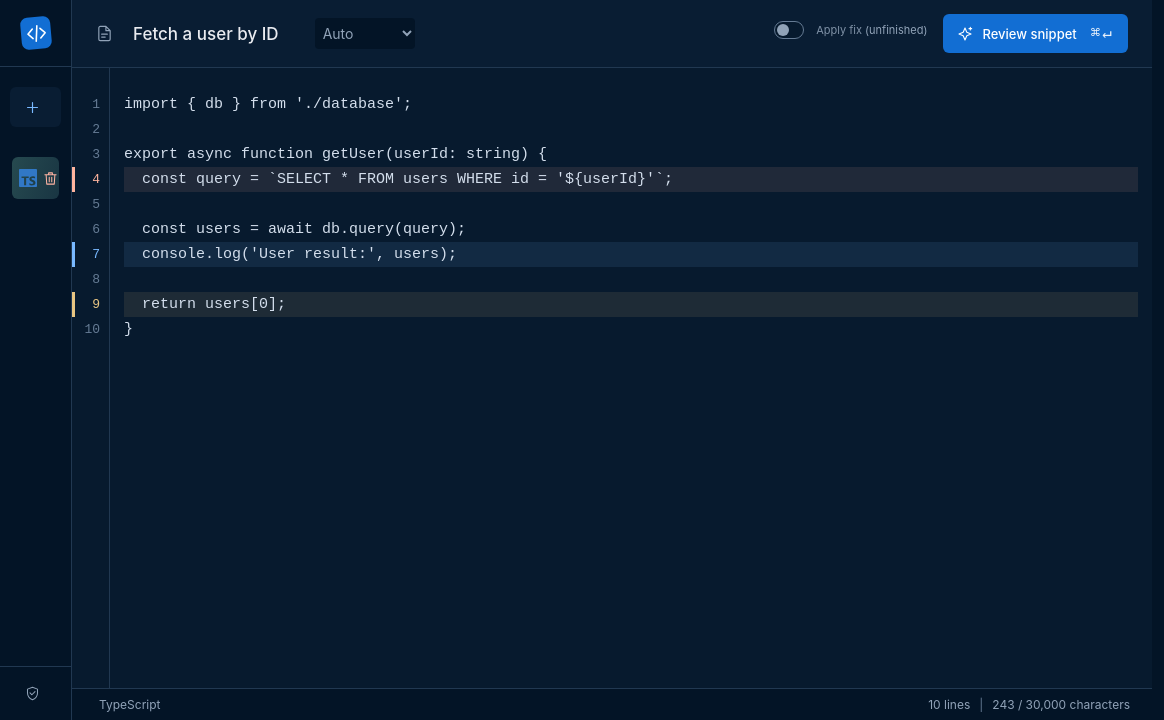
Test: snippet editor workspace › starts collapsed on small screens and closes after selection or Escape
Expected: the button named "Fetch a user by ID" is shown, left=12, top=157, right=59, bottom=199
Click the button named "Expand sidebar" at x=36, y=33, box left=20, top=17, right=52, bottom=49
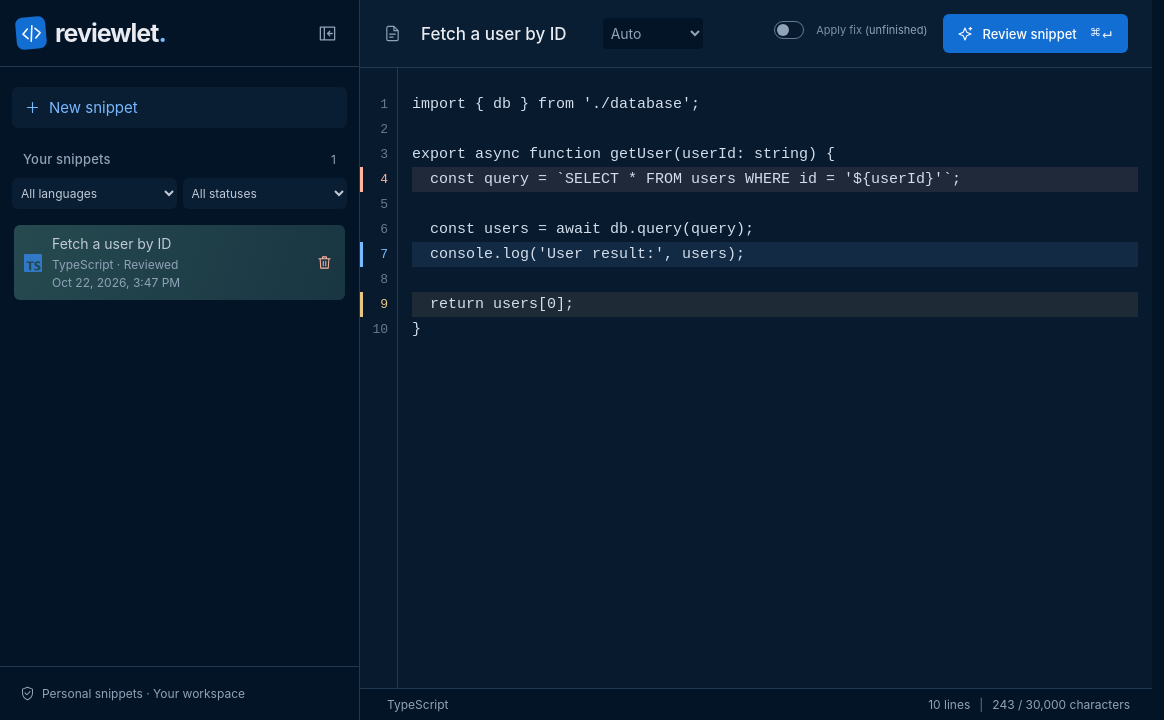
Click the button "Fetch a user by ID" at x=180, y=262, box left=14, top=225, right=345, bottom=300
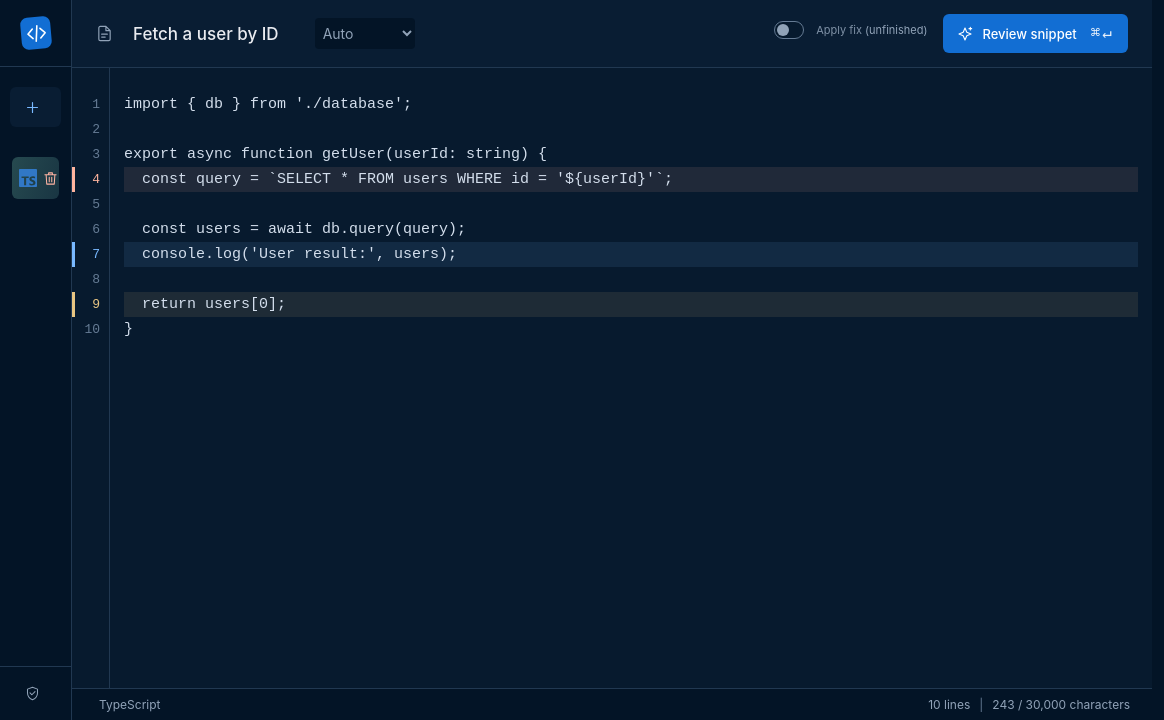
Expected: the button named "Expand sidebar" is shown
Click the button named "Expand sidebar" at x=36, y=33, box left=20, top=17, right=52, bottom=49
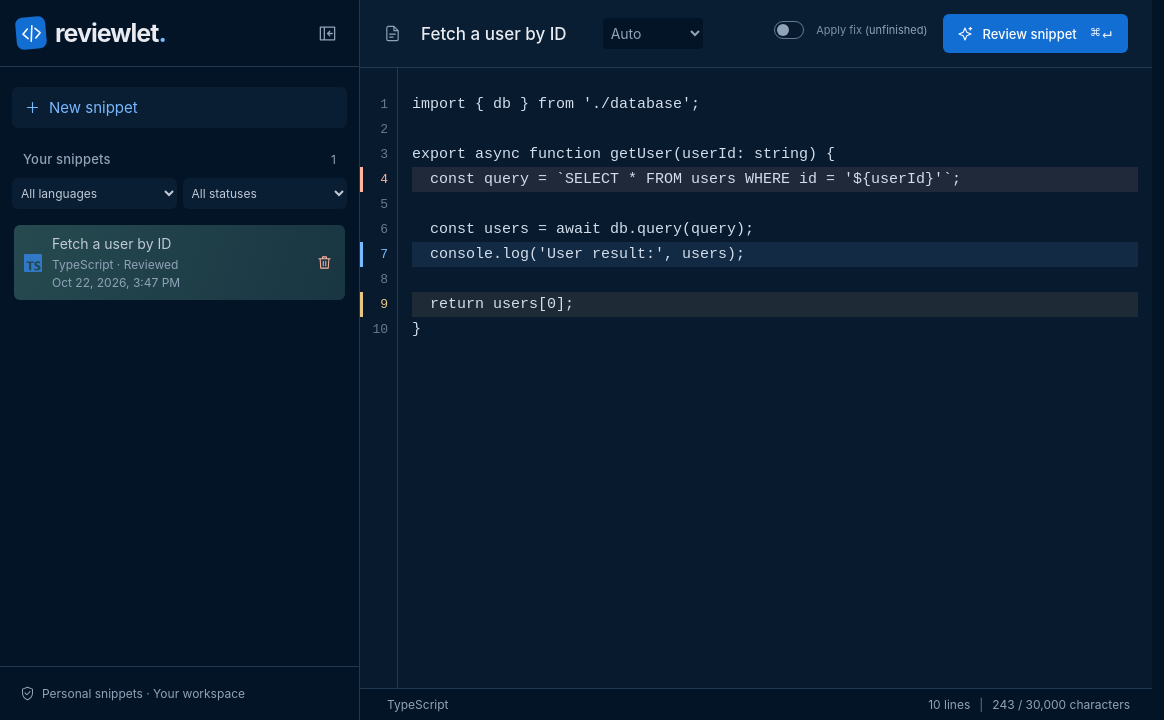
Press Escape in the element named "Snippet library", box left=0, top=0, right=360, bottom=719
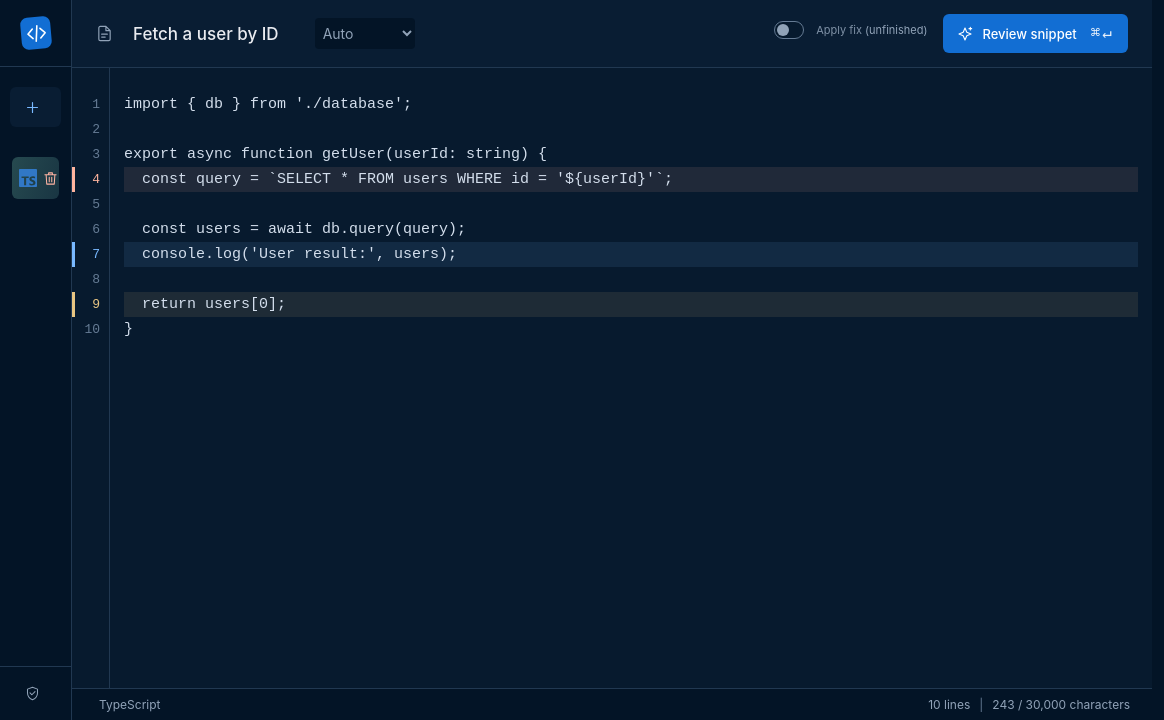
Expected: the button named "Expand sidebar" is shown, left=20, top=17, right=52, bottom=49
